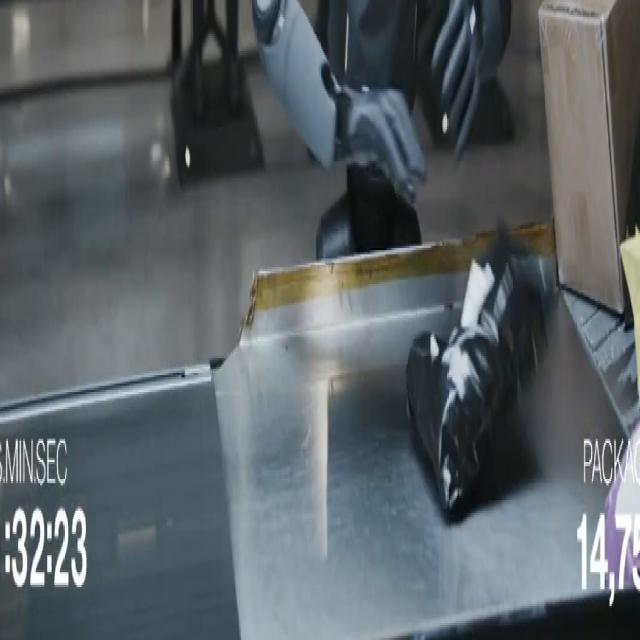package: (407, 234, 552, 519), (539, 0, 639, 313), (605, 429, 639, 591), (621, 231, 639, 345)
